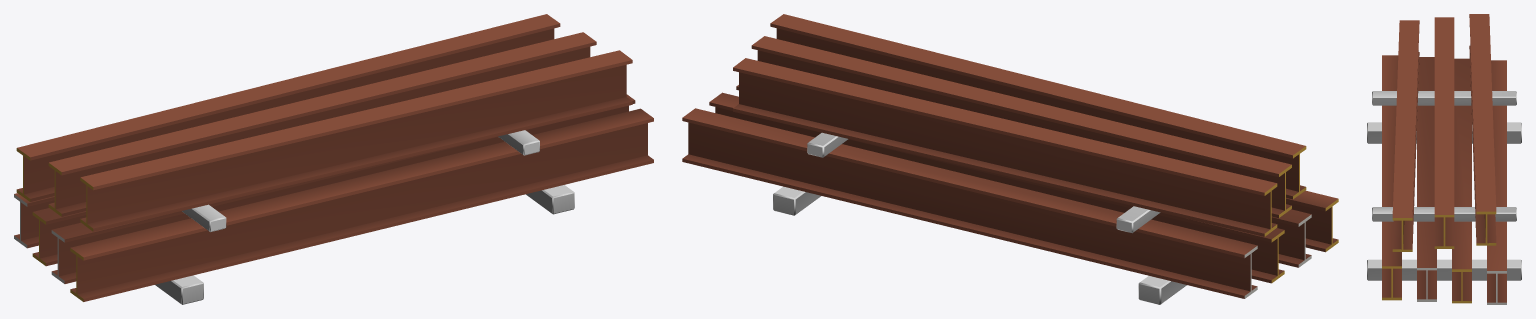
File: SteelBeams.fbx
3 renders of one model, left to right at view 1: azimuth 30°, elevation 25°; view 2: azimuth 150°, elevation 25°; view 3: azimuth 270°, elevation 25°, orthographic. The views are drawn at different scales.
Visible parts, largest first — view 1: SteelBeams; view 2: SteelBeams; view 3: SteelBeams.
Part boxes in pixels (box(x1,y1,x2,y2)): SteelBeams: box(14, 14, 653, 304); SteelBeams: box(682, 14, 1338, 304); SteelBeams: box(1367, 14, 1521, 304).
Bounding box in the file's own units: 4.09 × 0.8 × 1.24.
